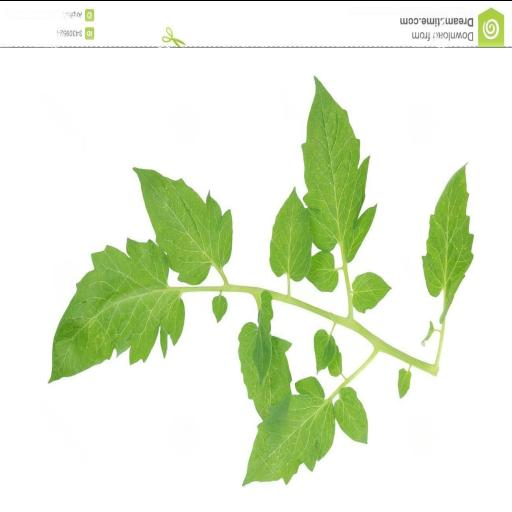Healthy: (46, 236, 186, 384), (302, 74, 378, 264), (130, 164, 232, 286), (240, 376, 334, 488), (420, 162, 476, 324), (268, 186, 312, 282)
